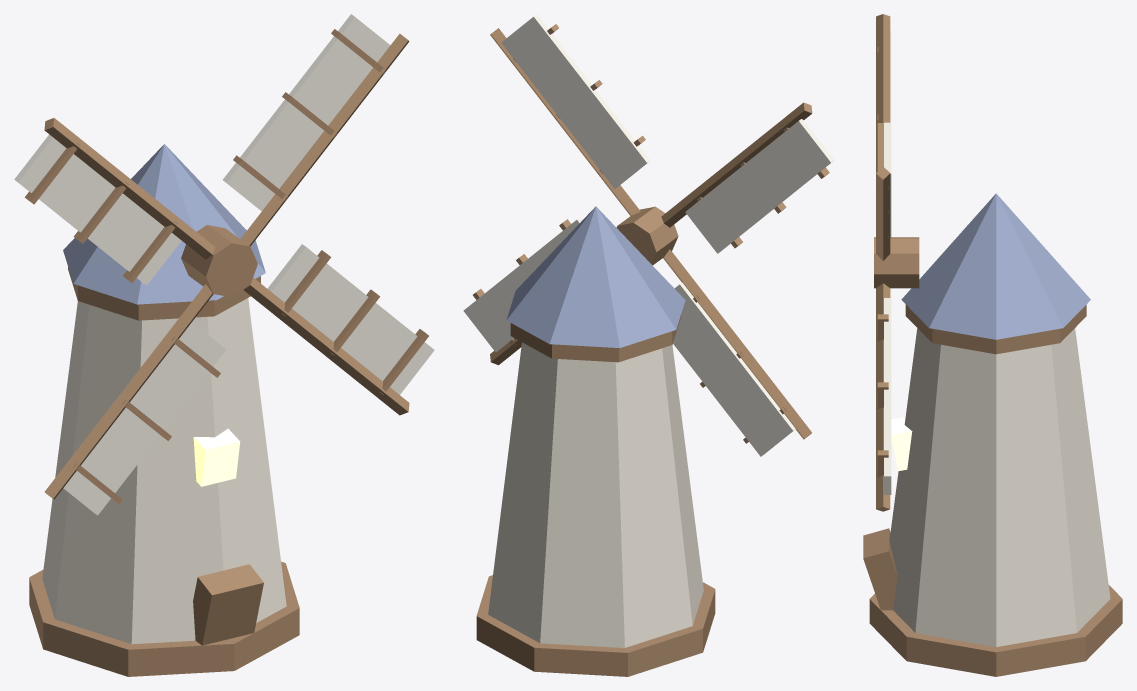
The model's file is windmill.glb.
The picture shows the model from 3 angles, left to right: view 1: azimuth 30°, elevation 25°; view 2: azimuth 150°, elevation 25°; view 3: azimuth 270°, elevation 25°; orthographic projection. The views are drawn at different scales.
Parts seen in each view (by area): view 1: windmill, sail; view 2: windmill, sail; view 3: windmill, sail.
Part boxes in pixels (bbox=[...]): windmill: bbox=[29, 144, 299, 676]; sail: bbox=[14, 14, 434, 515]; windmill: bbox=[476, 206, 715, 676]; sail: bbox=[463, 14, 834, 456]; windmill: bbox=[863, 193, 1122, 676]; sail: bbox=[874, 14, 919, 511].
Bounding box in the file's own units: 0.4808 × 0.6826 × 0.2871.
